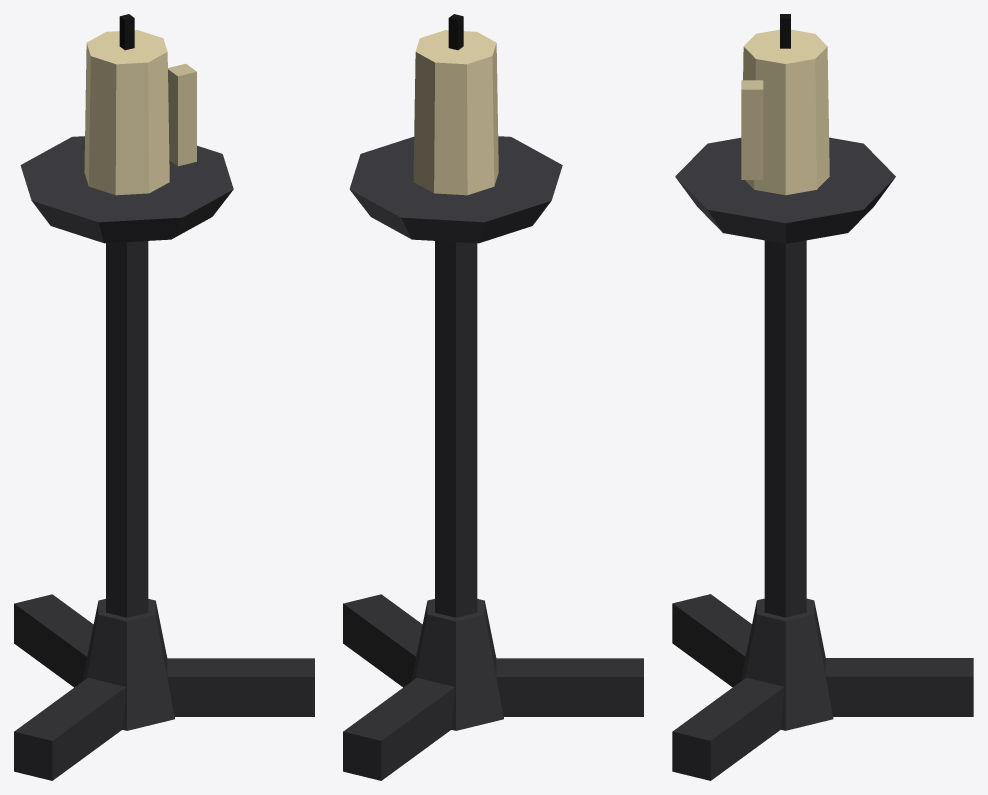
The model's file is candle.glb.
3 renders of one model, left to right at view 1: azimuth 30°, elevation 25°; view 2: azimuth 150°, elevation 25°; view 3: azimuth 270°, elevation 25°, orthographic.
Parts seen in each view (by area): view 1: candle; view 2: candle; view 3: candle.
Boxes of the visible parts, x1,y1,x2,y2 form: candle: (14, 14, 314, 780); candle: (343, 14, 643, 780); candle: (672, 14, 973, 780).
Size of the model in its own units: 0.3144 by 0.69 by 0.2723.
